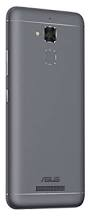asus: (3, 3, 87, 212)
